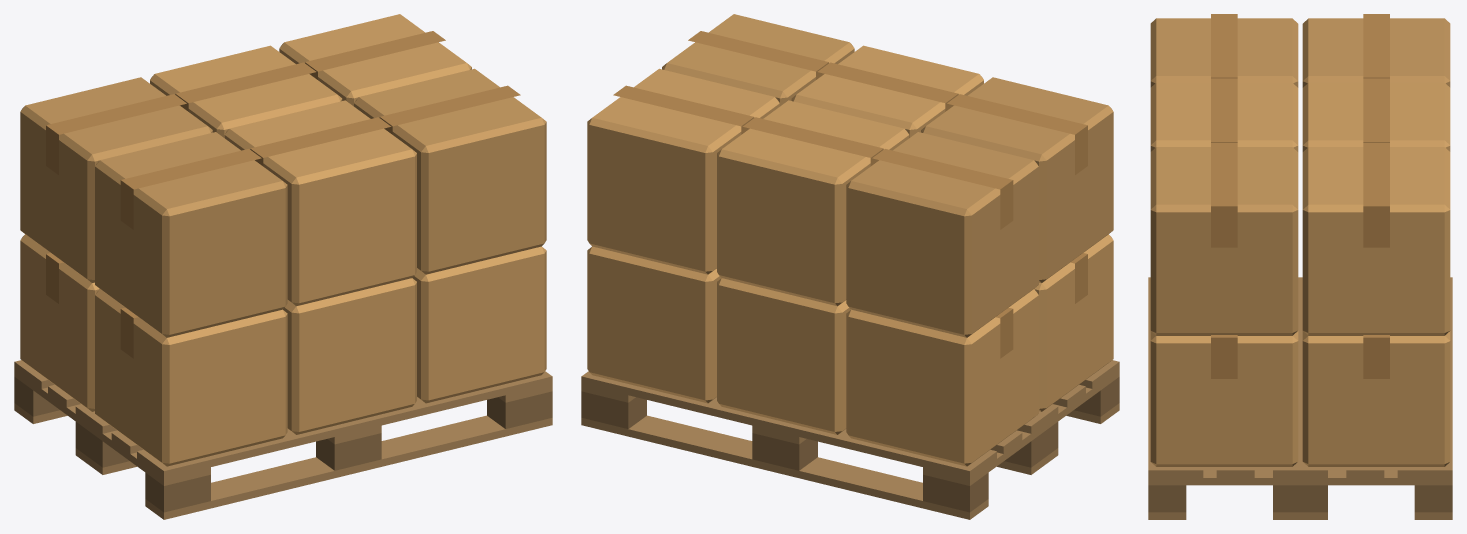
File: pallet_boxes_a.glb
3 renders of one model, left to right at view 1: azimuth 30°, elevation 25°; view 2: azimuth 150°, elevation 25°; view 3: azimuth 270°, elevation 25°, orthographic.
Visible parts, largest first — view 1: PalletBoxesA; view 2: PalletBoxesA; view 3: PalletBoxesA.
Part boxes in pixels (x1,y1,x2,y2): PalletBoxesA: [14, 14, 552, 519]; PalletBoxesA: [581, 14, 1119, 519]; PalletBoxesA: [1148, 14, 1452, 519].
Size of what is drawn, in the model's own units: 1.2 by 0.908 by 0.8.
